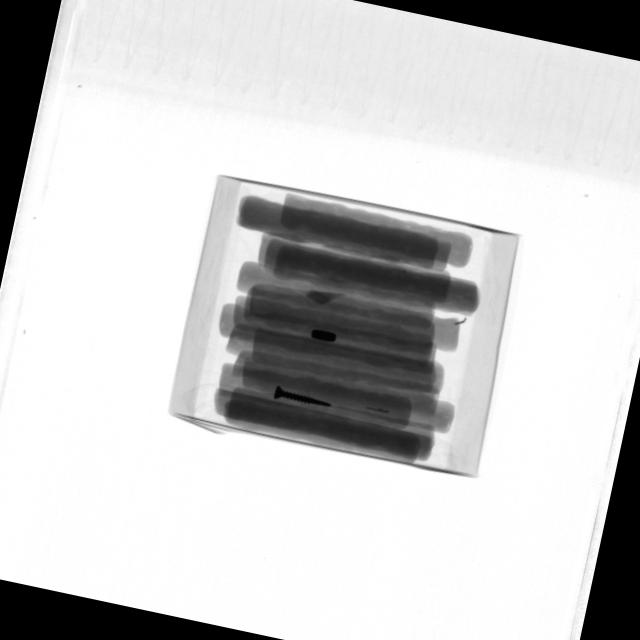ym: (274, 384, 335, 410), (305, 285, 346, 310), (311, 329, 338, 344), (365, 404, 391, 415), (454, 316, 467, 328), (402, 269, 407, 274)
